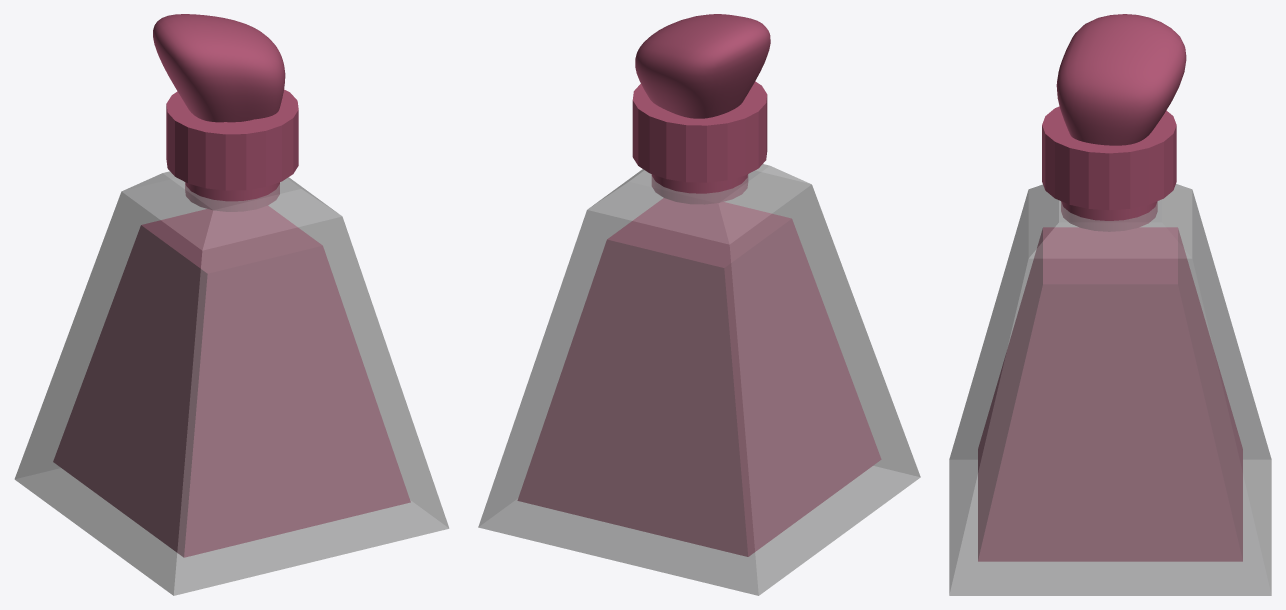
File: potion3.fbx
3 views of the same model, side by side, from view 1: azimuth 30°, elevation 25°; view 2: azimuth 150°, elevation 25°; view 3: azimuth 270°, elevation 25° (orthographic).
Visible parts, largest first — view 1: potion3; view 2: potion3; view 3: potion3.
Boxes of the visible parts, <box> form: potion3: <box>14,14,449,595</box>; potion3: <box>478,14,920,595</box>; potion3: <box>949,14,1271,595</box>.
Bounding box in the file's own units: 9.44 × 15.78 × 9.44.
